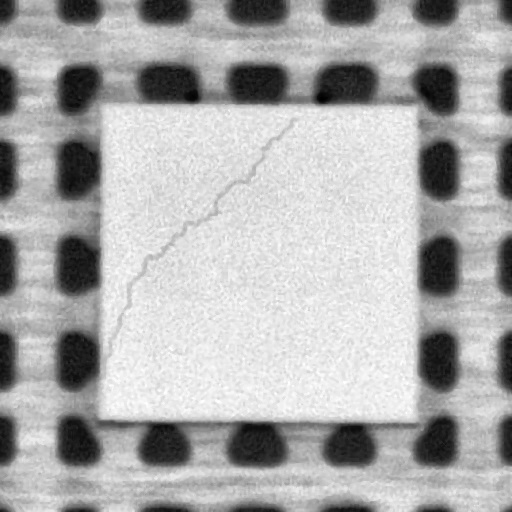DIE_CRACK: (106, 112, 298, 351)
